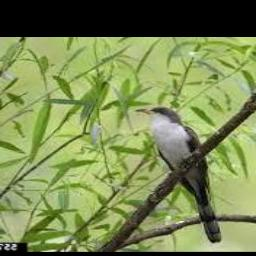Cuckoo: (137, 107, 223, 243)
